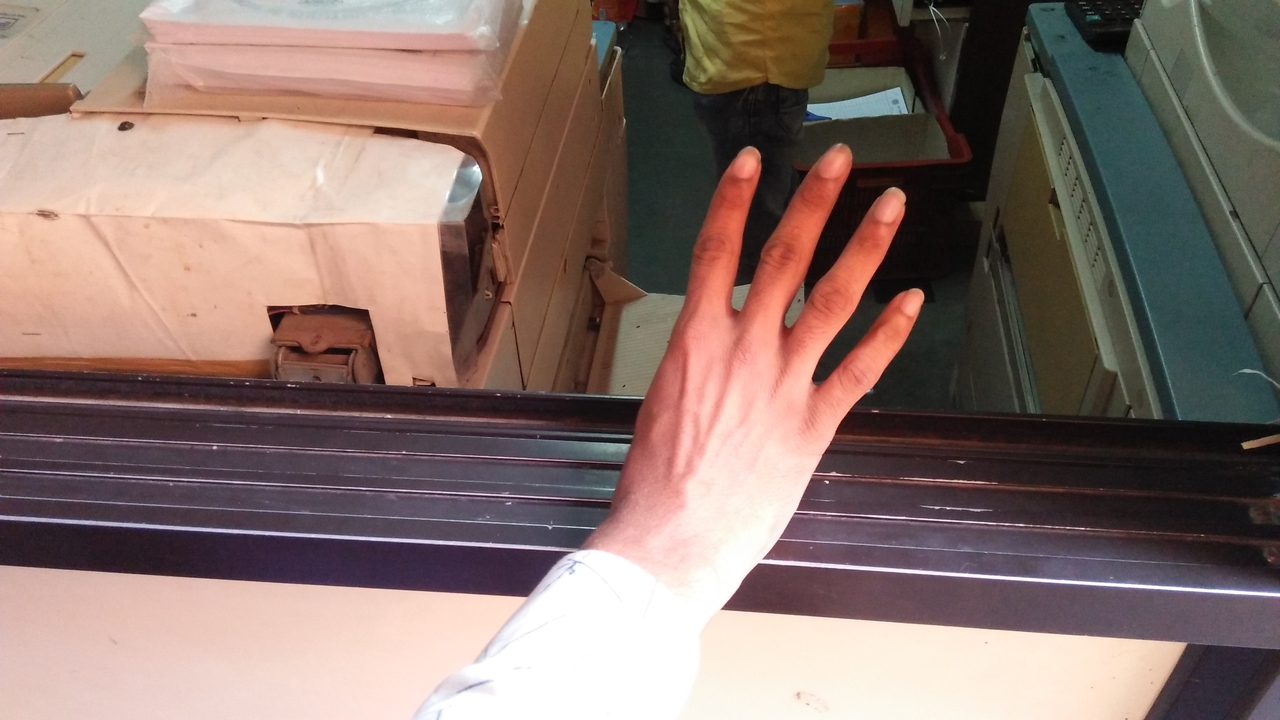fingertip: (804, 130, 866, 186), (712, 134, 772, 190), (868, 280, 932, 332), (856, 176, 912, 228)
